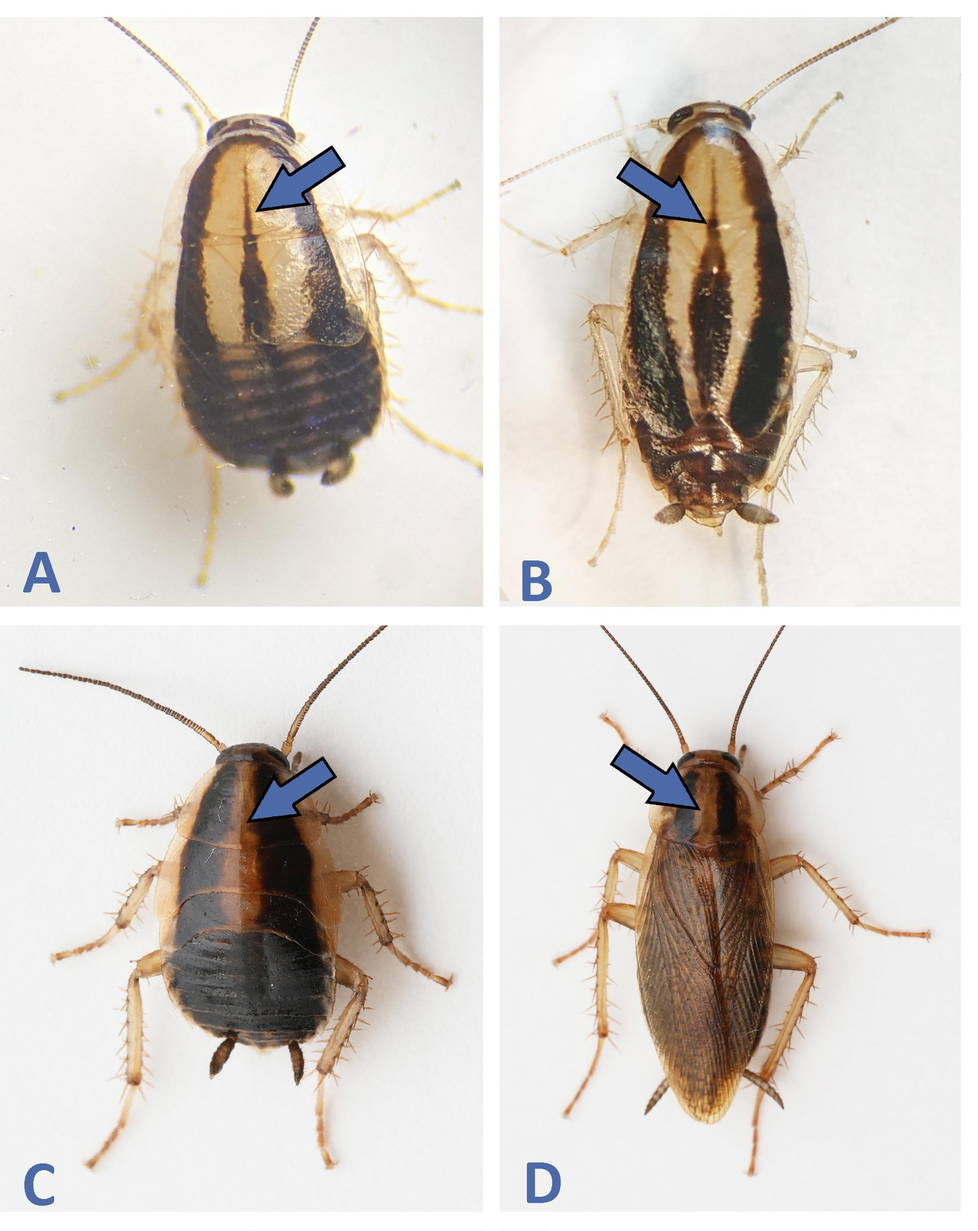cockroach: (591, 100, 828, 538), (152, 108, 397, 495), (153, 731, 364, 1093), (616, 737, 791, 1135)
